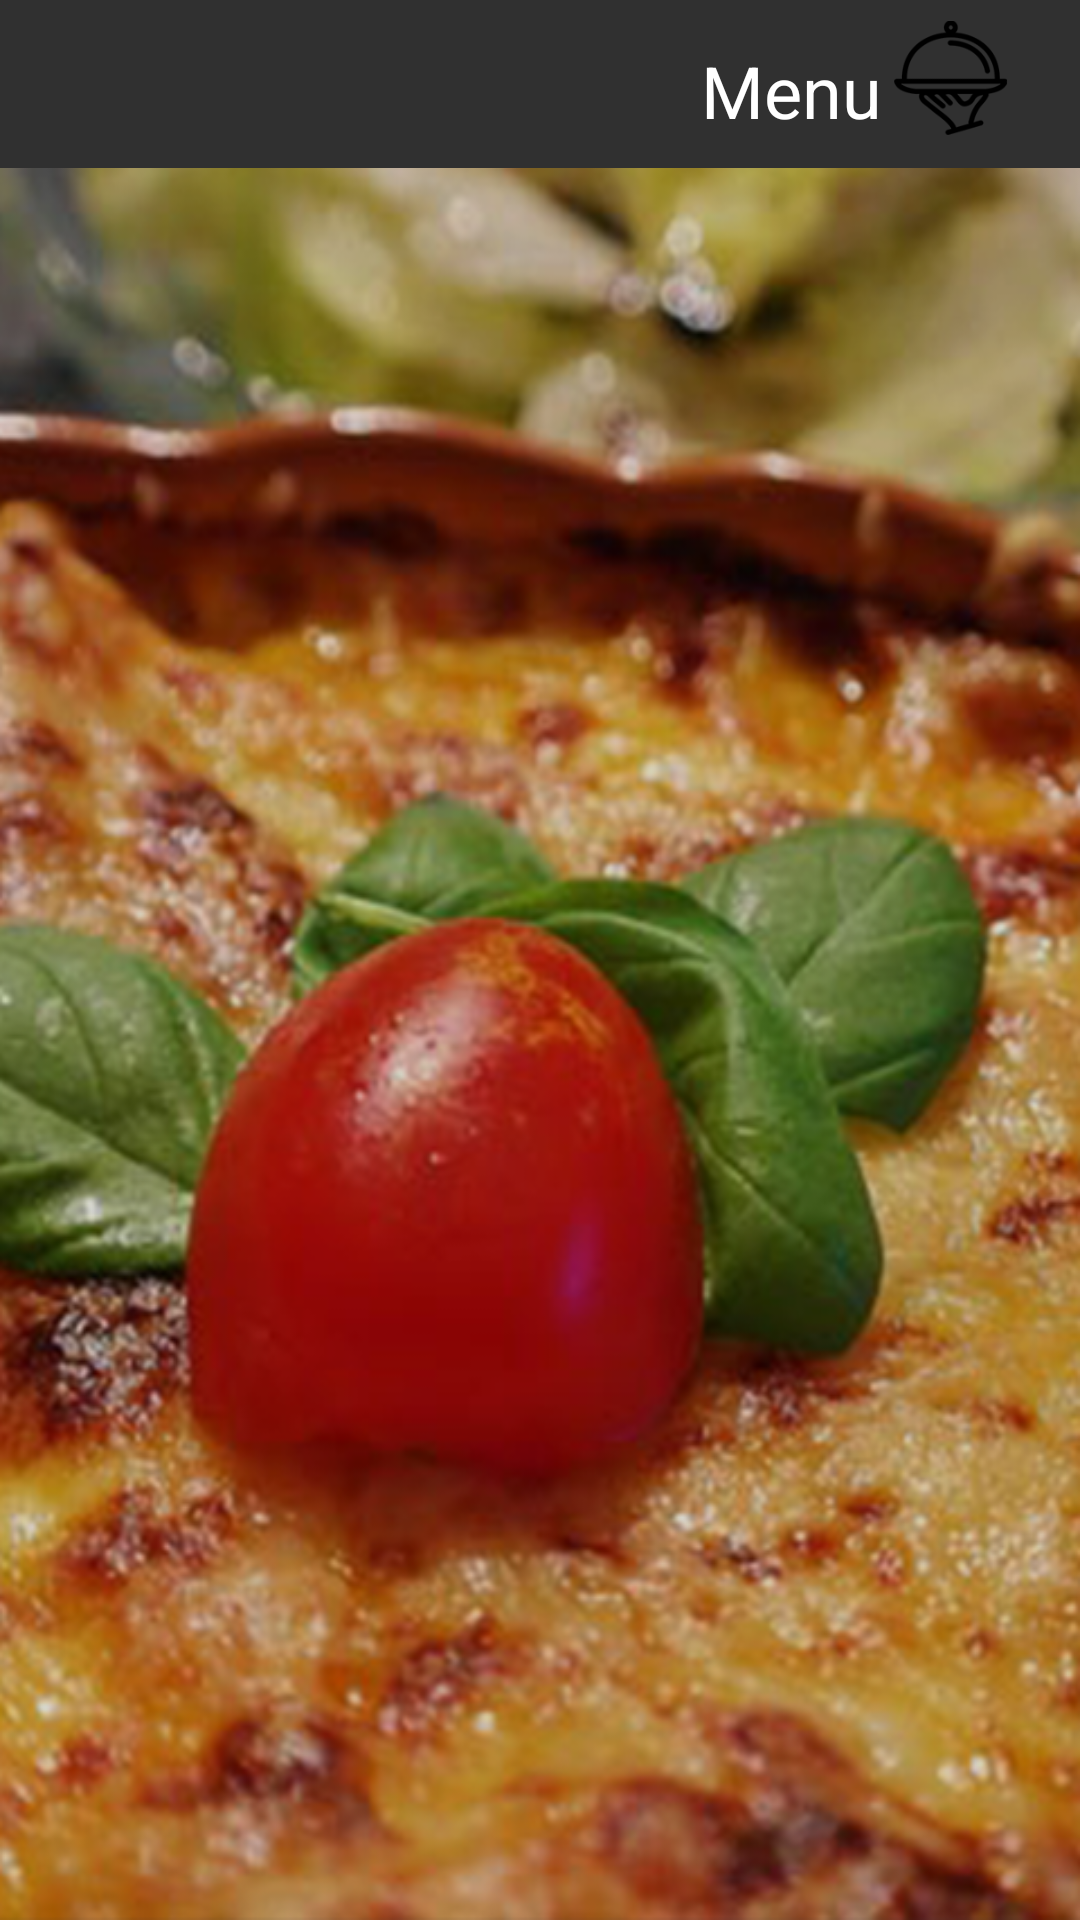

Icons on this 1080 × 1920 Android screen, each with its box as rect(x1, y1, x2, y2):
plato: rect(894, 21, 1007, 135)
